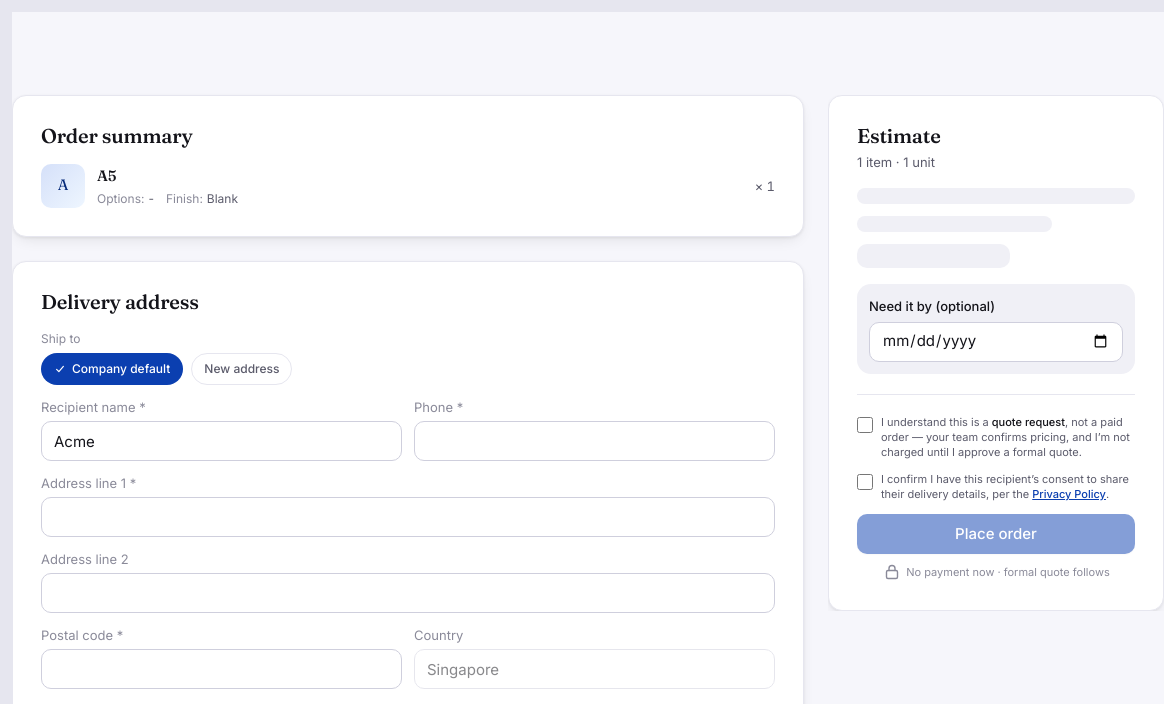
Scenario: blocks placing the order until the shipping address is valid
What coordinates should you click on to do the following:
click the checkbox labelled "quote request"
I would click on:
 (865, 424)
Its box is [857, 416, 873, 432].
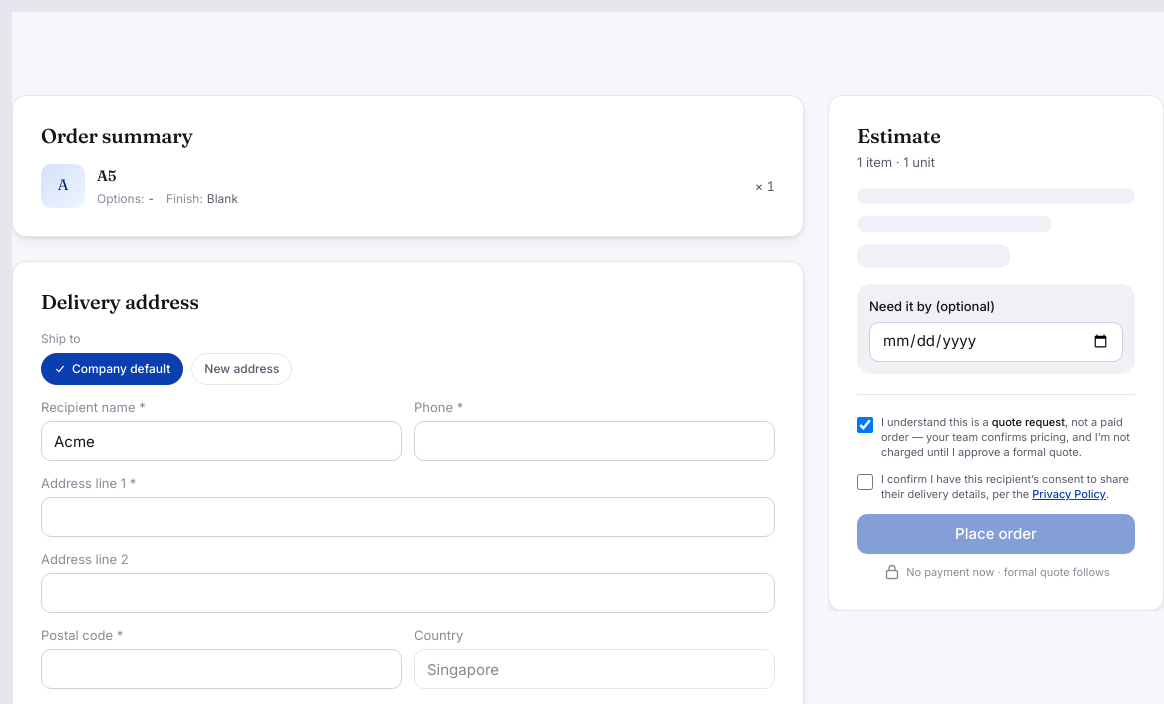
What coordinates should you click on to do the following:
click the checkbox labelled "recipient"
I would click on:
 (865, 482)
Its box is [857, 474, 873, 490].
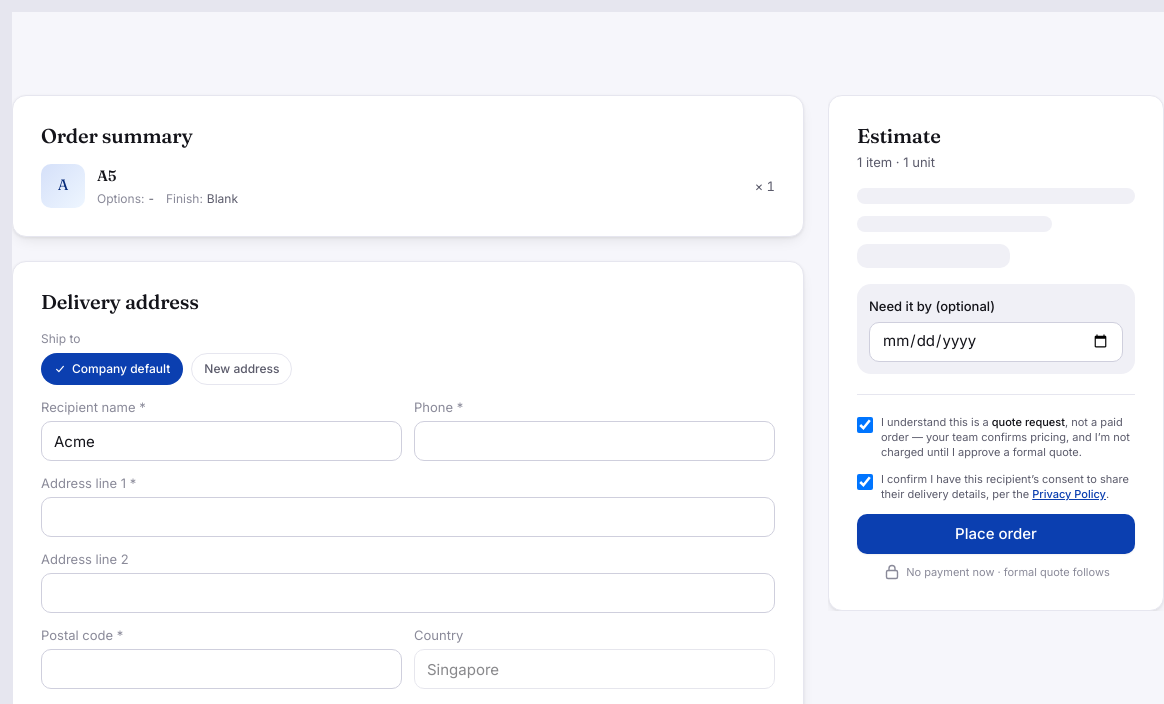
What coordinates should you click on to do the following:
click the button "Place order"
I would click on:
 (996, 534)
Its box is [857, 514, 1135, 554].
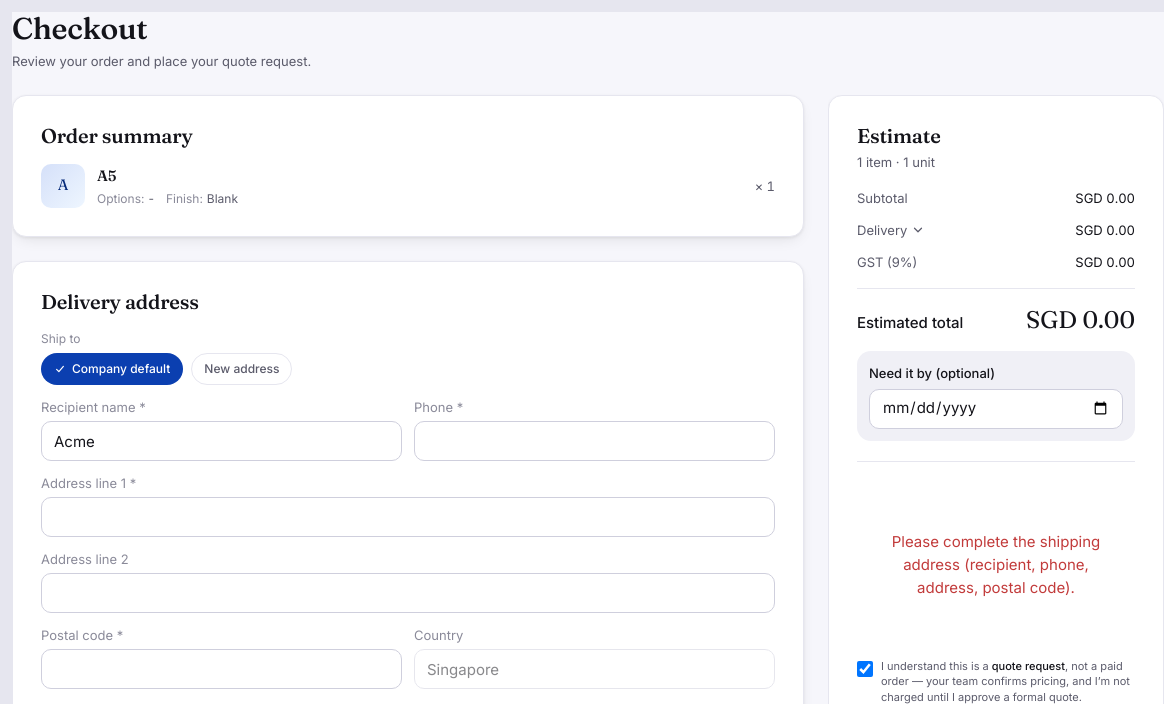
Check: the text "complete the shipping address" is shown, box [892, 532, 1100, 597]
